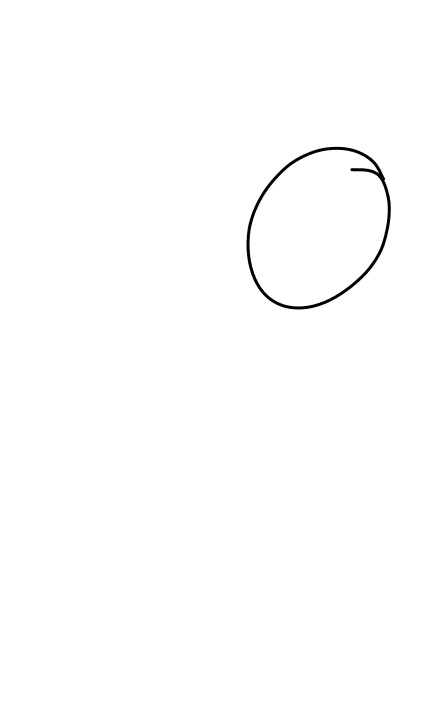Circle: (242, 143, 394, 313)
